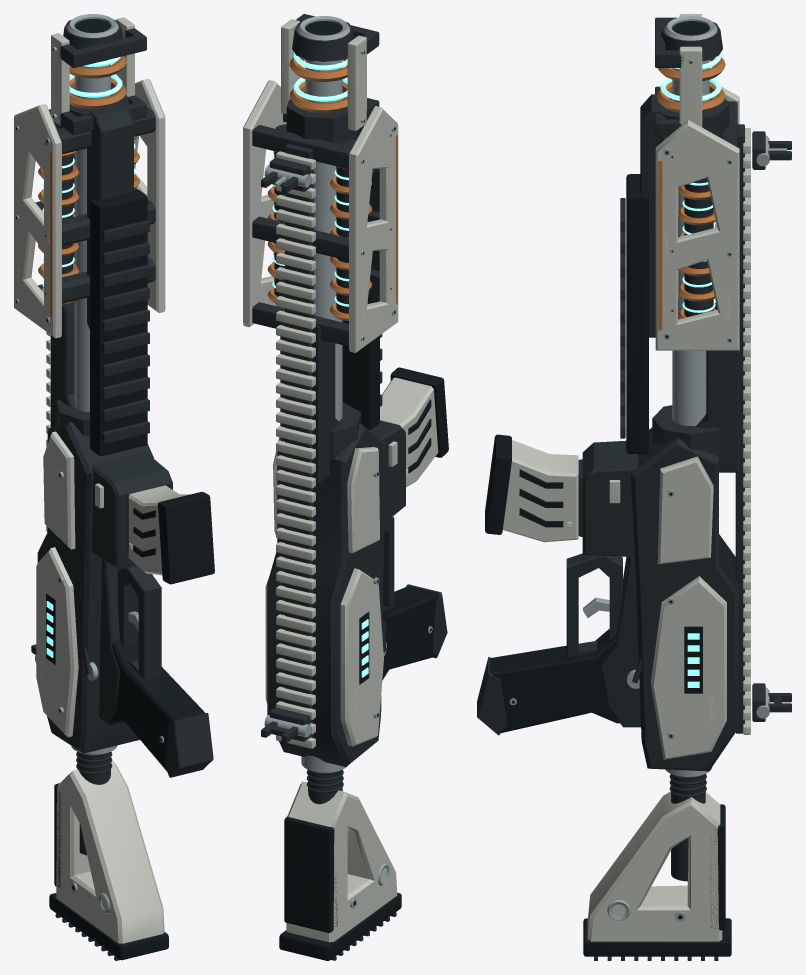
File: plasma.glb
The picture shows the model from 3 angles, left to right: view 1: azimuth 30°, elevation 25°; view 2: azimuth 150°, elevation 25°; view 3: azimuth 270°, elevation 25°; orthographic projection. The views are drawn at different scales.
Parts seen in each view (by area): view 1: 02_Graphite.006, 01_Cerakote.004, 04_Elastomer.006, 01_Cerakote.006, 04_Elastomer.007, 03_Titanium.006, 05_Copper.001, 04_Elastomer.008, 01_Cerakote.005, 02_Graphite.008, 07_Indicator; view 2: 01_Cerakote.004, 02_Graphite.006, 04_Elastomer.006, 01_Cerakote.006, 04_Elastomer.008, 03_Titanium.006, 01_Cerakote.005, 05_Copper.001, 04_Elastomer.007, 07_Indicator, 02_Graphite.008, 03_Titanium.008; view 3: 02_Graphite.006, 01_Cerakote.004, 04_Elastomer.006, 01_Cerakote.006, 01_Cerakote.005, 03_Titanium.006, 04_Elastomer.008, 05_Copper.001, 04_Elastomer.007, 02_Graphite.008, 07_Indicator.
Part boxes in pixels (x1,y1,x2,y2): 02_Graphite.006: [31, 19, 213, 777]; 01_Cerakote.004: [14, 17, 165, 737]; 04_Elastomer.006: [16, 19, 204, 770]; 01_Cerakote.006: [56, 761, 164, 943]; 04_Elastomer.007: [133, 491, 214, 584]; 03_Titanium.006: [15, 14, 164, 742]; 05_Copper.001: [38, 56, 139, 316]; 04_Elastomer.008: [49, 783, 168, 960]; 01_Cerakote.005: [128, 485, 190, 575]; 02_Graphite.008: [55, 752, 119, 960]; 07_Indicator: [42, 57, 135, 657]; 01_Cerakote.004: [243, 19, 398, 748]; 02_Graphite.006: [252, 14, 447, 766]; 04_Elastomer.006: [305, 21, 439, 716]; 01_Cerakote.006: [286, 781, 397, 942]; 04_Elastomer.008: [279, 816, 401, 960]; 03_Titanium.006: [264, 16, 432, 737]; 01_Cerakote.005: [380, 377, 438, 487]; 05_Copper.001: [267, 56, 397, 320]; 04_Elastomer.007: [390, 367, 448, 473]; 07_Indicator: [272, 53, 368, 677]; 02_Graphite.008: [306, 770, 396, 960]; 03_Titanium.008: [301, 755, 389, 908]; 02_Graphite.006: [477, 17, 791, 771]; 01_Cerakote.004: [609, 14, 750, 759]; 04_Elastomer.006: [490, 21, 730, 737]; 01_Cerakote.006: [587, 791, 722, 941]; 01_Cerakote.005: [502, 440, 578, 542]; 03_Titanium.006: [509, 16, 787, 739]; 04_Elastomer.008: [583, 804, 731, 956]; 05_Copper.001: [656, 57, 725, 330]; 04_Elastomer.007: [485, 434, 563, 534]; 02_Graphite.008: [594, 774, 718, 960]; 07_Indicator: [660, 53, 721, 687].
Bounding box in the file's own units: 0.0922 × 0.6861 × 0.212.
